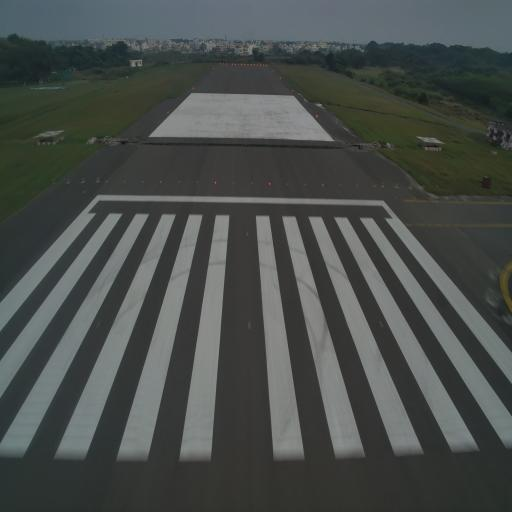off: (80, 176, 85, 186), (66, 178, 71, 186), (96, 176, 100, 186), (122, 178, 126, 186), (195, 178, 199, 186), (286, 179, 290, 187), (380, 180, 384, 188), (355, 182, 360, 188), (141, 178, 145, 185), (232, 180, 236, 187), (395, 182, 399, 189), (250, 181, 255, 186), (408, 184, 413, 189), (177, 179, 181, 185), (338, 182, 342, 188), (303, 181, 306, 187)
on: (246, 321, 252, 331), (245, 228, 249, 238), (268, 180, 272, 188), (320, 181, 324, 189), (105, 178, 109, 184), (373, 183, 376, 190), (159, 180, 162, 186), (214, 179, 217, 185)
